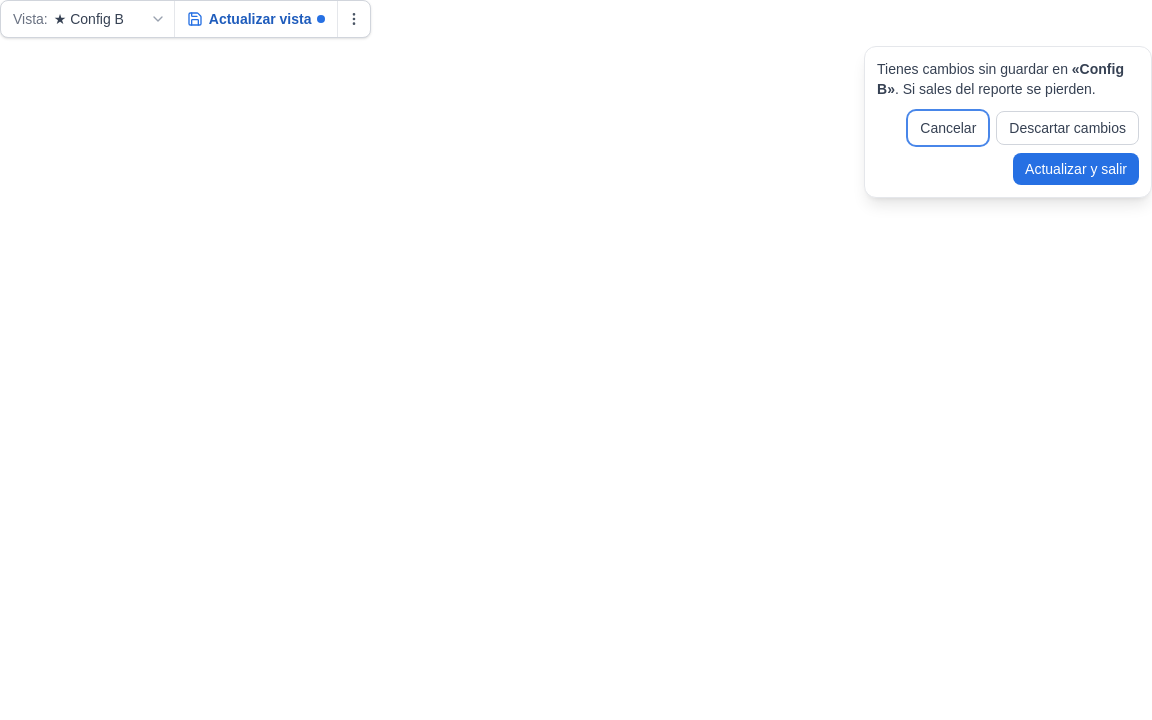
Test: ConfiguracionesColumnas › salir con cambios sin guardar › ir a otro reporte pregunta; Cancelar libera la navegación y se queda
Expected: the dialog shows "Tienes cambios sin guardar en «Config B». Si sales del reporte se pierden.", [864, 46, 1151, 198]
Step 1. Click the button "Cancelar" → (948, 128), box [908, 111, 988, 145]
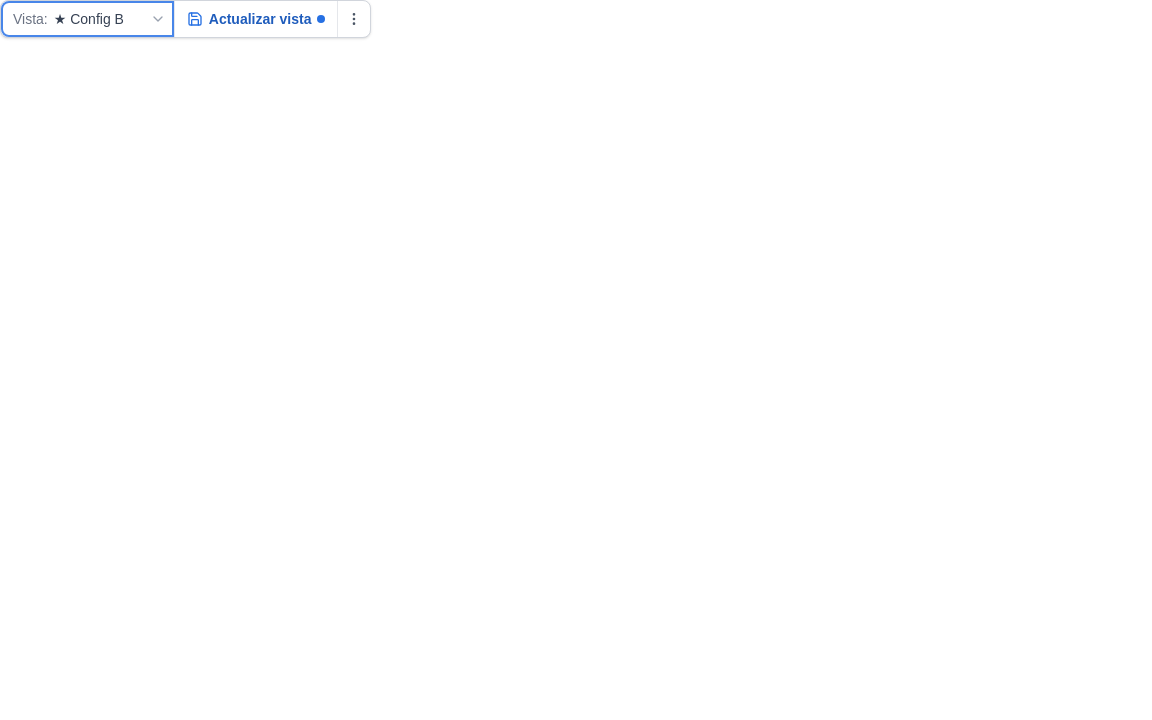
Result: the dialog is gone
